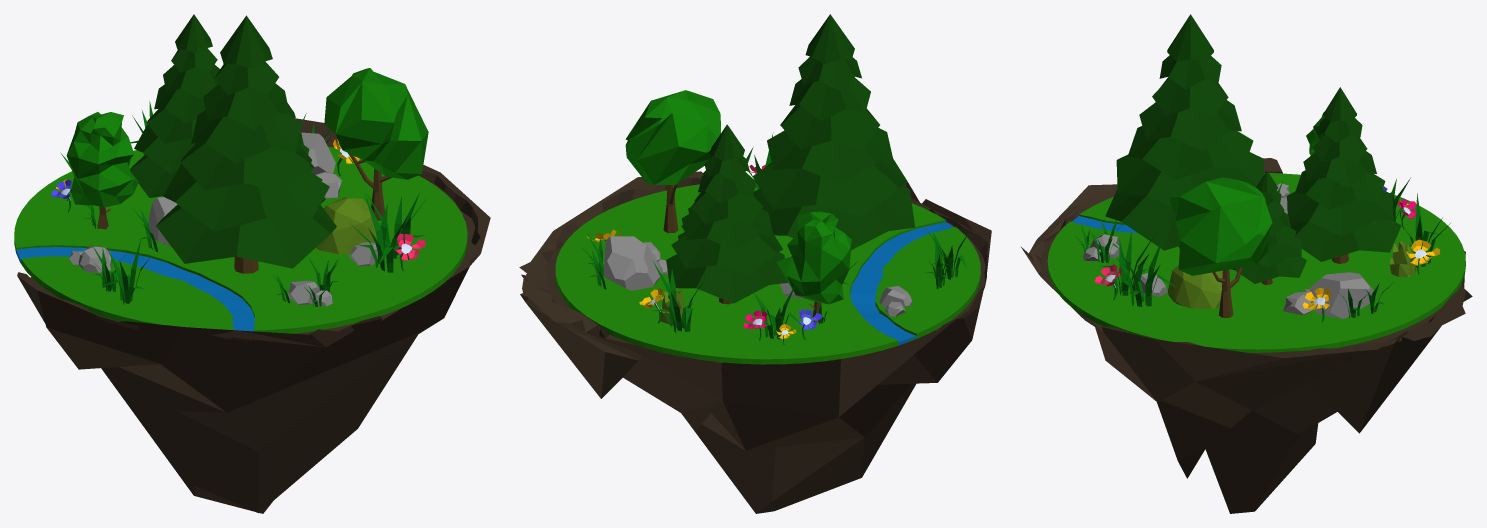
File: large1disc.gltf
3 views of the same model, side by side, from view 1: azimuth 30°, elevation 25°; view 2: azimuth 150°, elevation 25°; view 3: azimuth 270°, elevation 25° (orthographic). The views are drawn at different scales.
Parts seen in each view (by area): view 1: Bedrock.003, Ground.003, FirTree3.003, Tree2Group2.001, FirTree3.004, Tree5Group3.002, Purovesi, Bush5.001, Grass-m.014, Rock.010, Grass-m.011, Grass-m.013 (+4 smaller); view 2: Bedrock.003, Ground.003, FirTree3.003, FirTree3.004, Tree2Group2.001, Tree5Group3.002, Purovesi, Rock.010, Grass-m.010, Grass-m.016, Grass-m.011; view 3: Bedrock.003, Ground.003, FirTree3.003, FirTree3.004, Tree2Group2.001, FirTree3.005, Rock.010, Bush5.001, Grass-m.013, Grass-m.014, Bush2.002, Grass-m.010 (+1 smaller).
Part boxes in pixels (x1,y1,x2,y2): Bedrock.003: (17, 118, 490, 513); Ground.003: (14, 146, 467, 333); FirTree3.003: (156, 15, 336, 273); Tree2Group2.001: (324, 68, 428, 220); FirTree3.004: (129, 14, 219, 197); Tree5Group3.002: (66, 112, 138, 229); Purovesi: (16, 247, 254, 331); Bush5.001: (316, 197, 377, 254); Grass-m.014: (349, 191, 407, 272); Rock.010: (301, 132, 335, 174); Grass-m.011: (101, 239, 149, 304); Grass-m.013: (366, 192, 425, 259); Bedrock.003: (519, 171, 991, 513); Ground.003: (555, 184, 980, 364); FirTree3.003: (752, 14, 915, 250); FirTree3.004: (666, 124, 788, 304); Tree2Group2.001: (625, 90, 720, 233); Tree5Group3.002: (776, 211, 851, 322); Purovesi: (850, 222, 953, 345); Rock.010: (604, 236, 660, 290); Grass-m.010: (652, 260, 705, 332); Grass-m.016: (753, 282, 798, 339); Grass-m.011: (925, 228, 971, 279); Bedrock.003: (1021, 158, 1472, 513); Ground.003: (1047, 173, 1465, 353); FirTree3.003: (1105, 14, 1263, 250); FirTree3.004: (1287, 87, 1401, 263); Tree2Group2.001: (1169, 177, 1272, 317); FirTree3.005: (1231, 170, 1306, 284); Rock.010: (1309, 272, 1376, 318); Bush5.001: (1168, 265, 1232, 308); Grass-m.013: (1115, 236, 1176, 306); Grass-m.014: (1100, 232, 1155, 295); Bush2.002: (1390, 241, 1415, 276); Grass-m.010: (1402, 193, 1450, 267).
Size of the model in its own units: 1.83 by 2.12 by 1.8.
